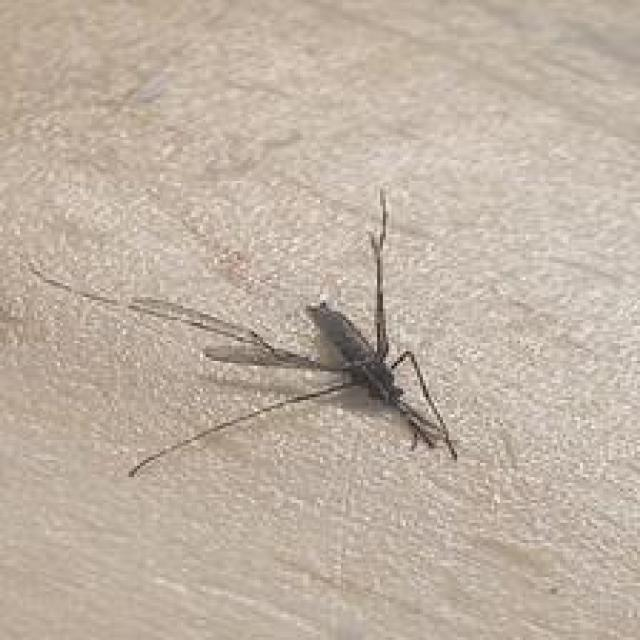Aedes albopictus: (27, 186, 462, 480)
